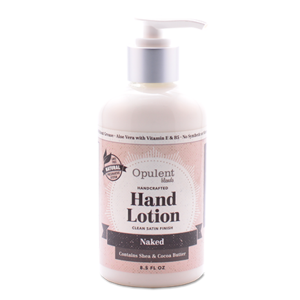Nonrec_Plastic: (93, 9, 216, 282)
